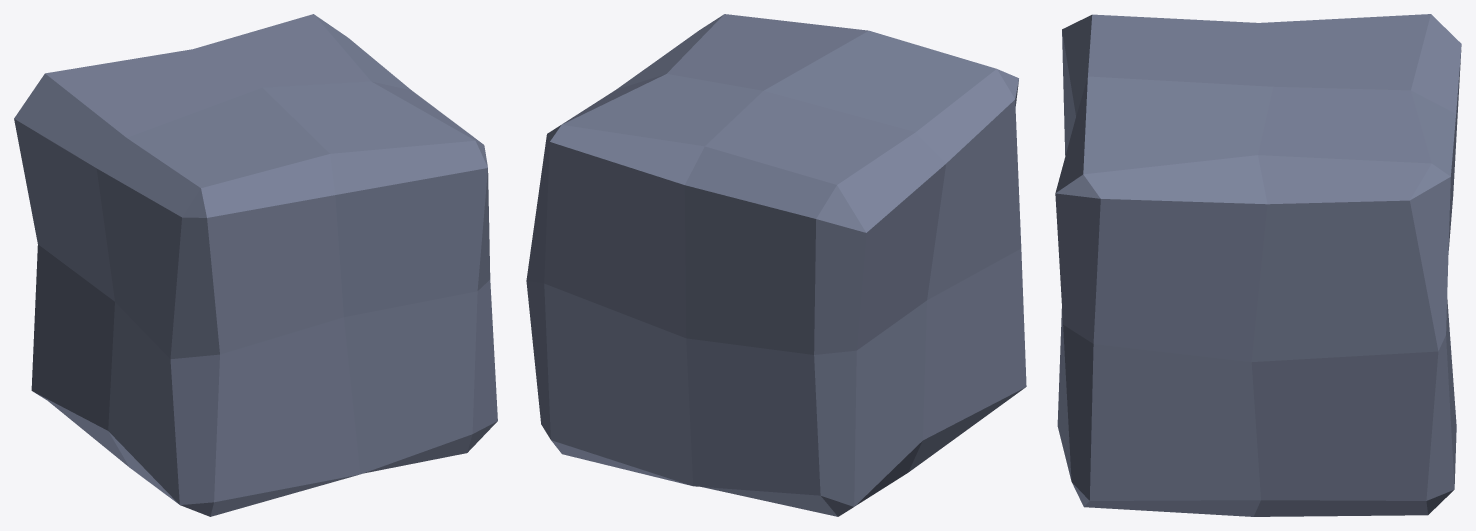
The model's file is RockPlatforms01.fbx.
3 views of the same model, side by side, from view 1: azimuth 30°, elevation 25°; view 2: azimuth 150°, elevation 25°; view 3: azimuth 270°, elevation 25° (orthographic). The views are drawn at different scales.
Visible parts, largest first — view 1: Cube; view 2: Cube; view 3: Cube.
Boxes of the visible parts, x1,y1,x2,y2 form: Cube: (14, 14, 497, 516); Cube: (526, 14, 1026, 516); Cube: (1055, 14, 1461, 516).
Bounding box in the file's own units: 214 × 213 × 210.
